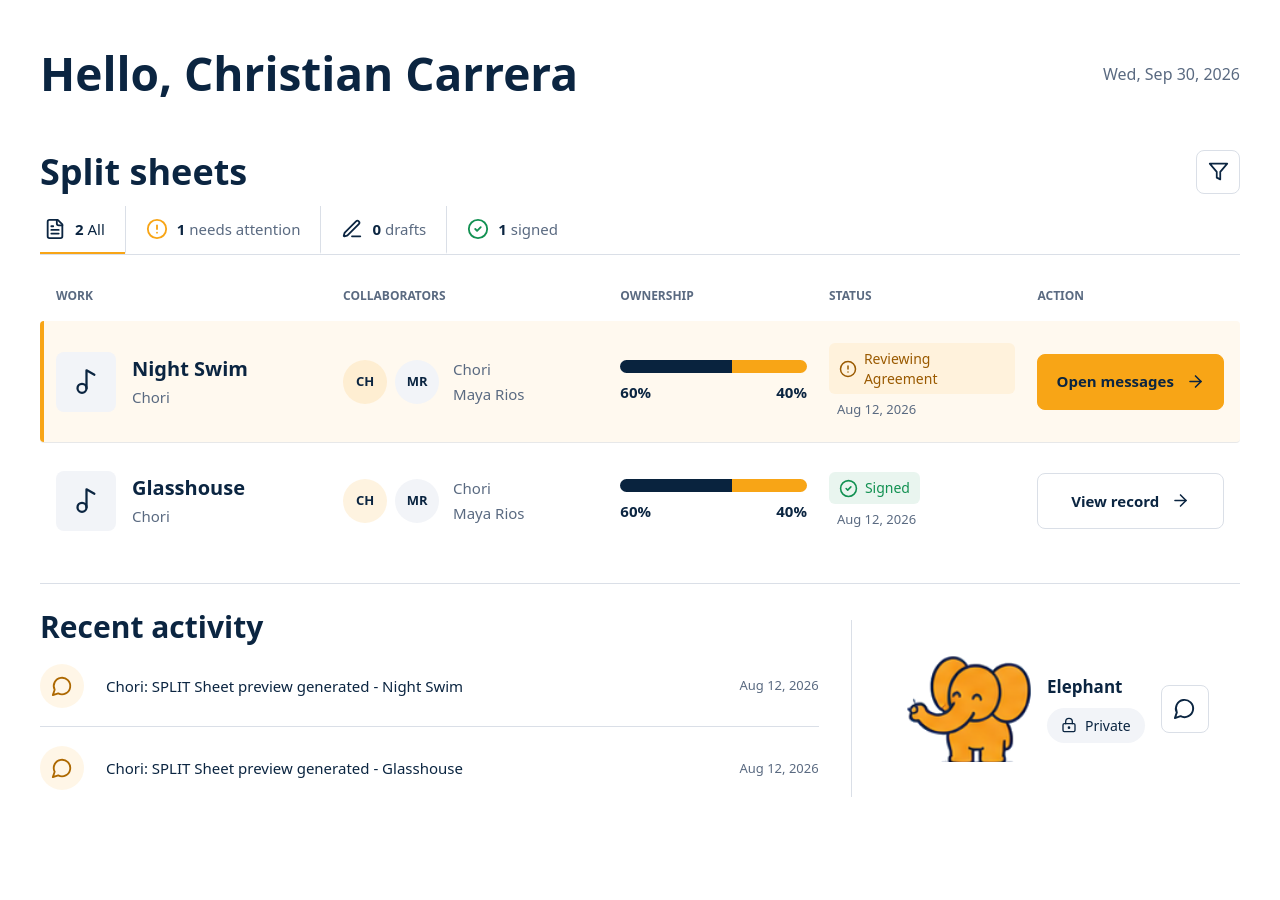
Test: workspace overview controls › filters the table without changing the total counters
Click the button "1 signed": [513, 230] box x1=447 y1=206 x2=578 y2=254
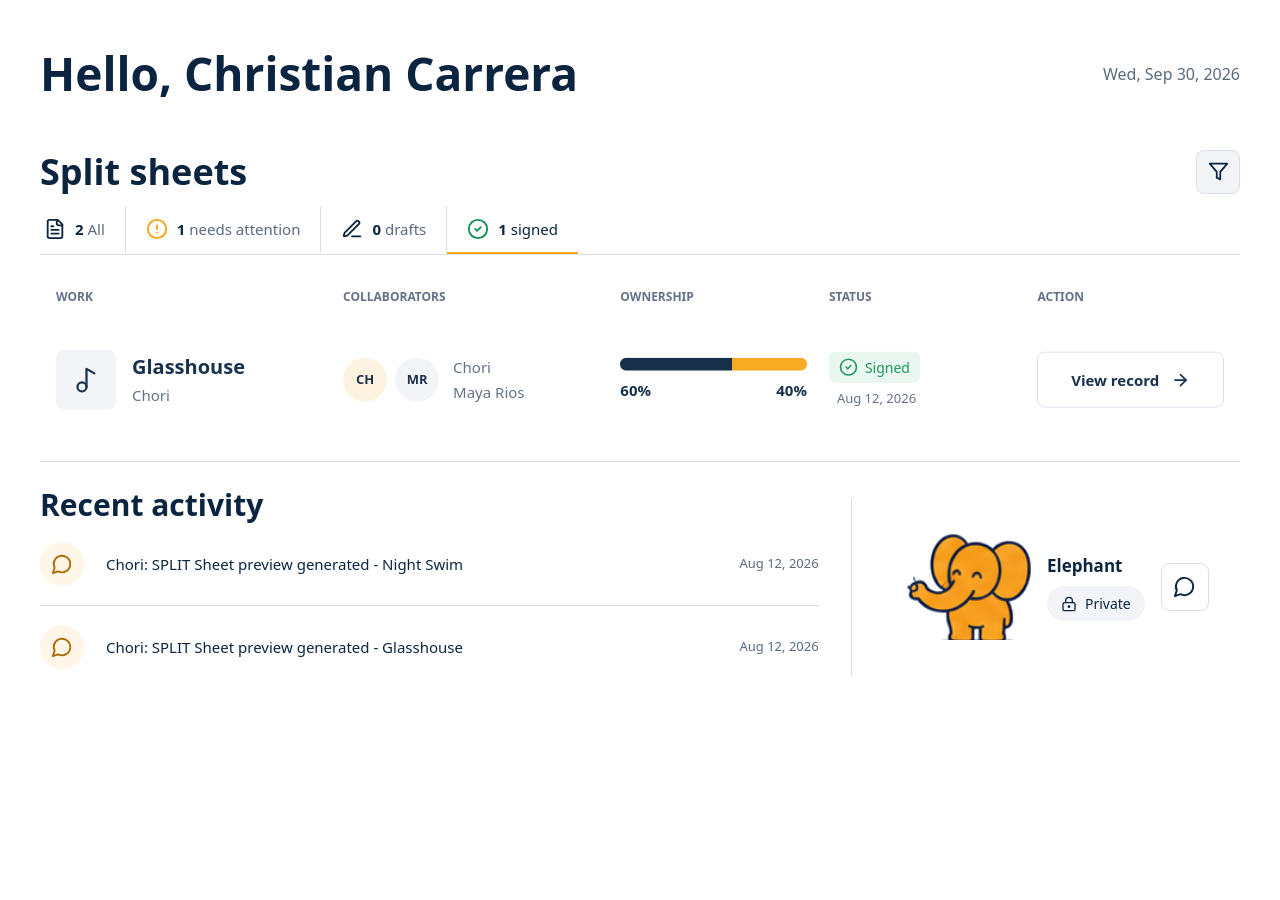
Check: the button "Glasshouse" is shown, box x1=132 y1=352 x2=245 y2=379
Check: the button "2 All" is shown, box x1=40 y1=206 x2=126 y2=254
Click the button "1 needs attention": [224, 230] box x1=126 y1=206 x2=321 y2=254
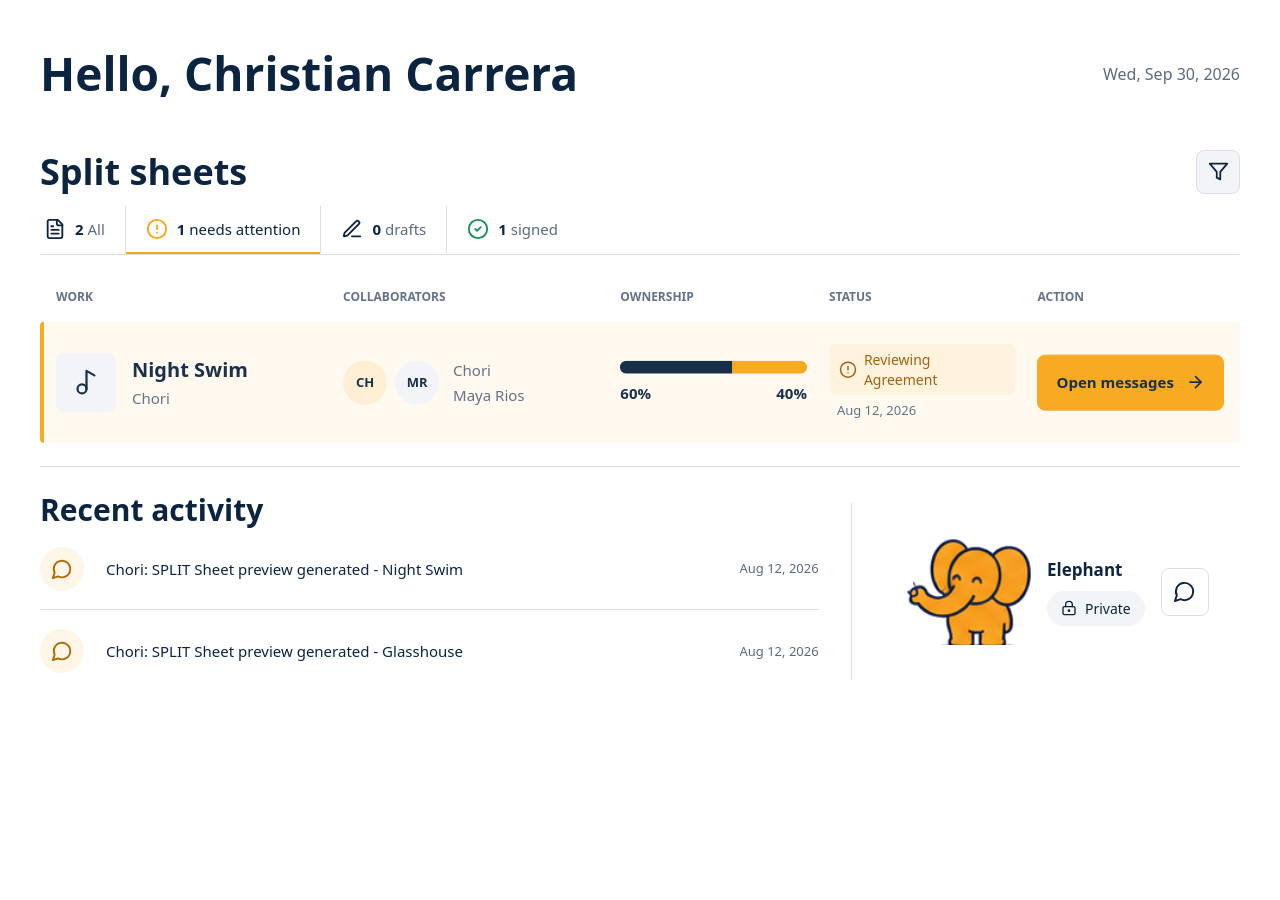
Check: the button "Night Swim" is shown, box x1=132 y1=355 x2=248 y2=382
